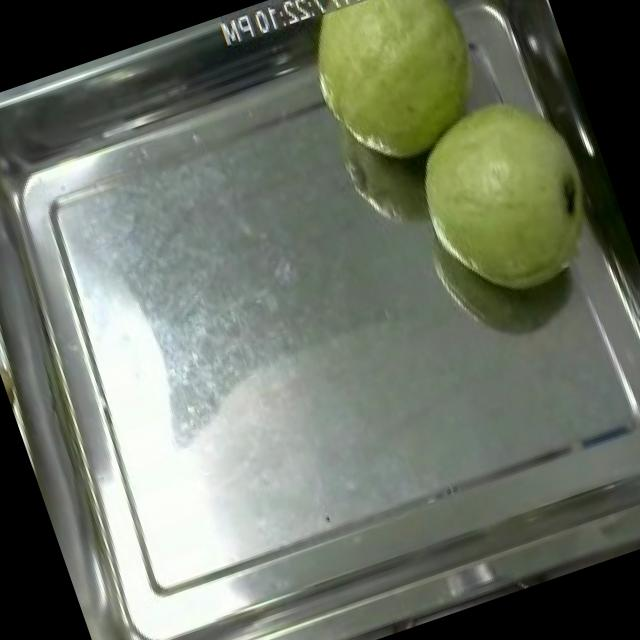Fruit: (385, 62, 627, 324), (284, 0, 519, 191)
